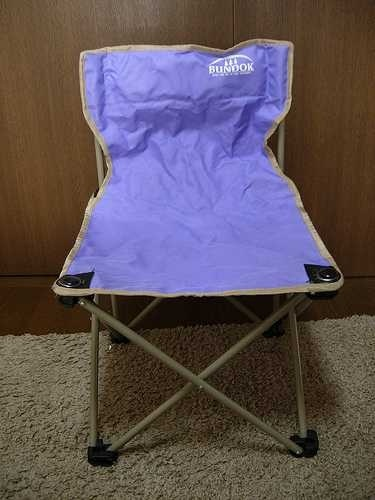obstacle: (53, 39, 343, 465)
